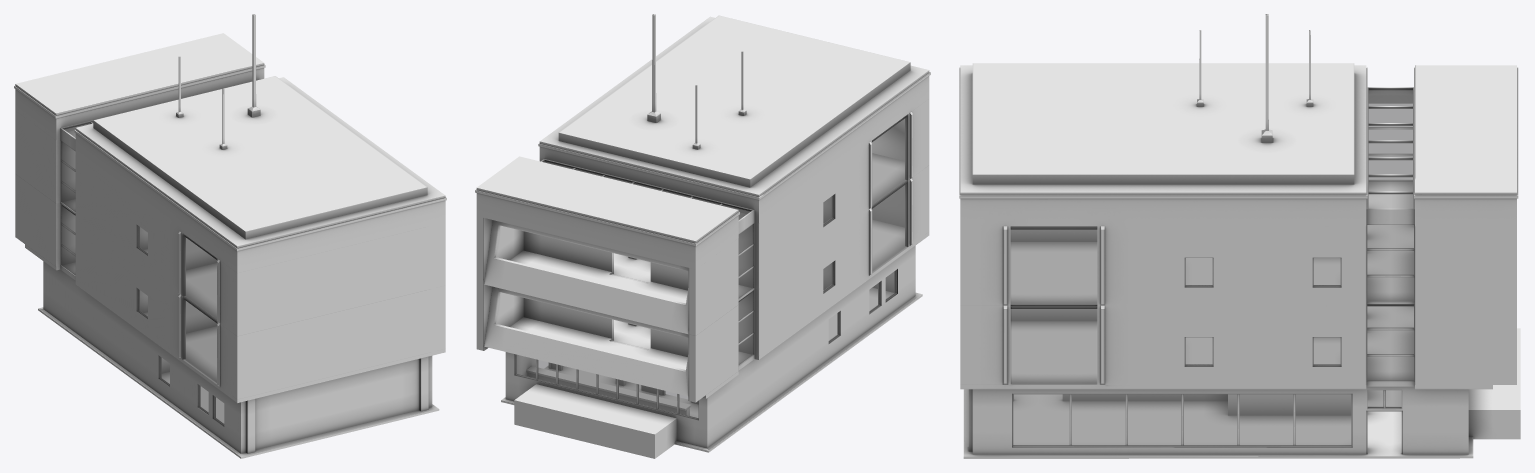
3 renders of one model, left to right at view 1: azimuth 30°, elevation 25°; view 2: azimuth 150°, elevation 25°; view 3: azimuth 270°, elevation 25°, orthographic. The views are drawn at different scales.
Parts seen in each view (by area): view 1: Residential_Buildings_001_Cube.001; view 2: Residential_Buildings_001_Cube.001; view 3: Residential_Buildings_001_Cube.001.
Boxes of the visible parts, x1,y1,x2,y2 form: Residential_Buildings_001_Cube.001: [14, 14, 446, 458]; Residential_Buildings_001_Cube.001: [475, 14, 930, 458]; Residential_Buildings_001_Cube.001: [959, 14, 1520, 458].
Bounding box in the file's own units: 12.59 × 18.39 × 23.1.
Materials: 2 (1 with a texture image).
